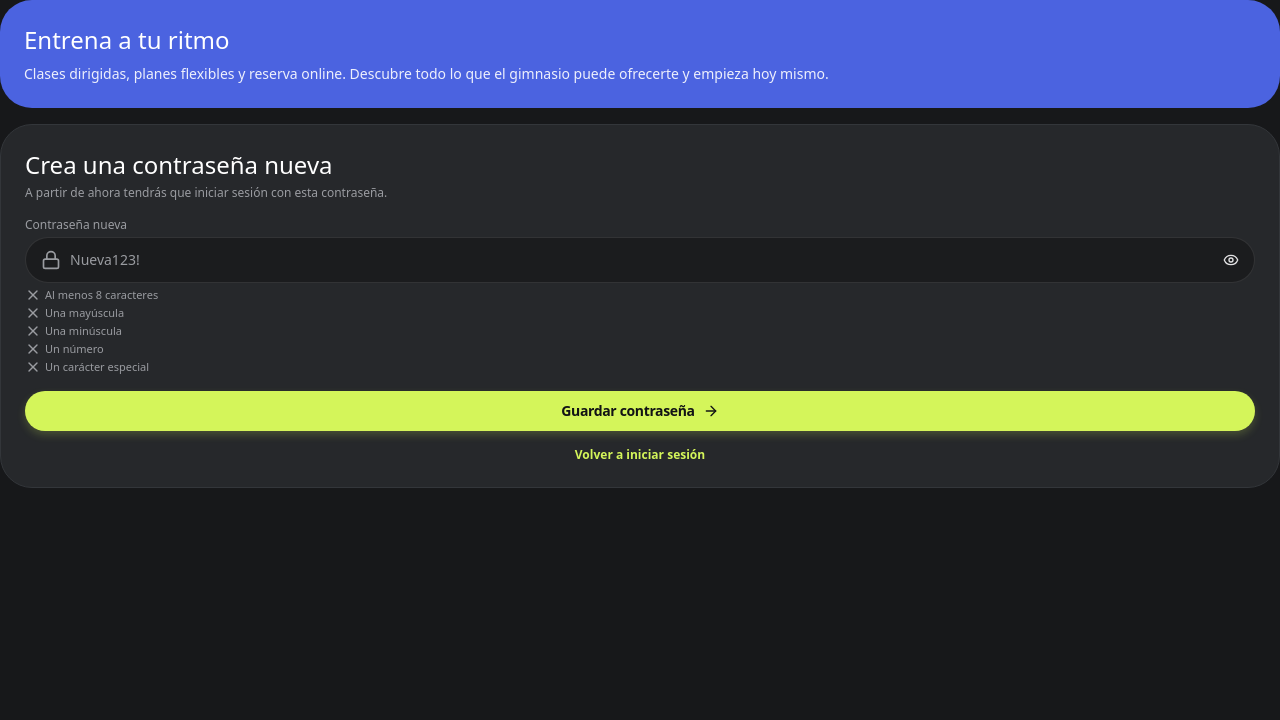
Test case: ResetPasswordPage › cambia la contraseña con el token y enlaza al login
In the password field labelled "Contraseña nueva": [640, 260] box [25, 237, 1255, 283], type "Nueva123!"
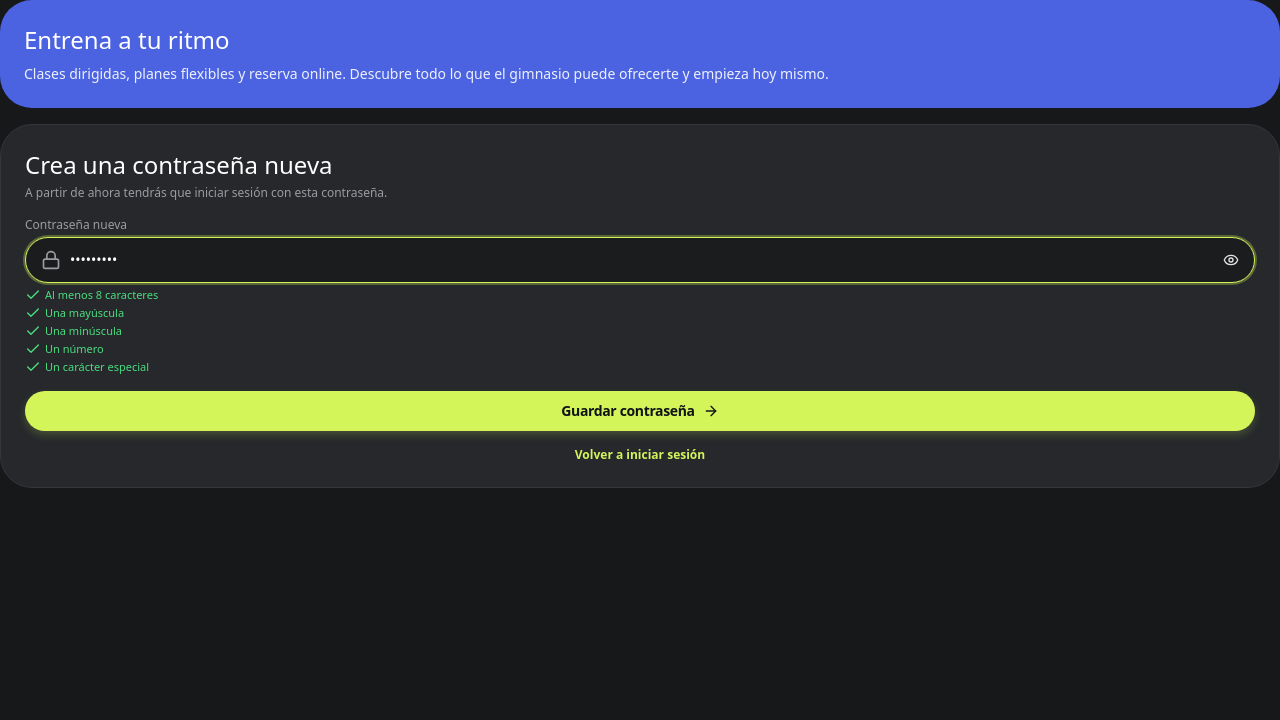
Click the button "Guardar contraseña": [640, 411] box [25, 391, 1255, 431]
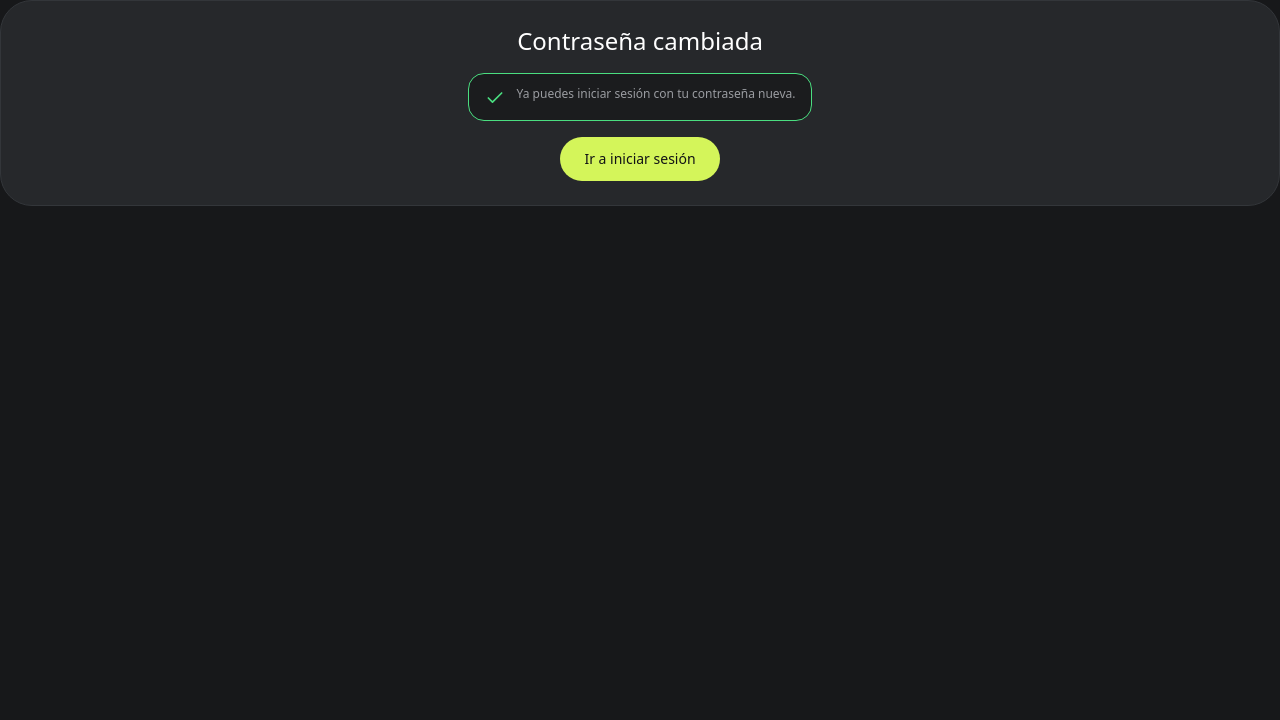
Check: the text "Ya puedes iniciar sesión con tu contraseña nueva." is shown, box [516, 86, 795, 102]
